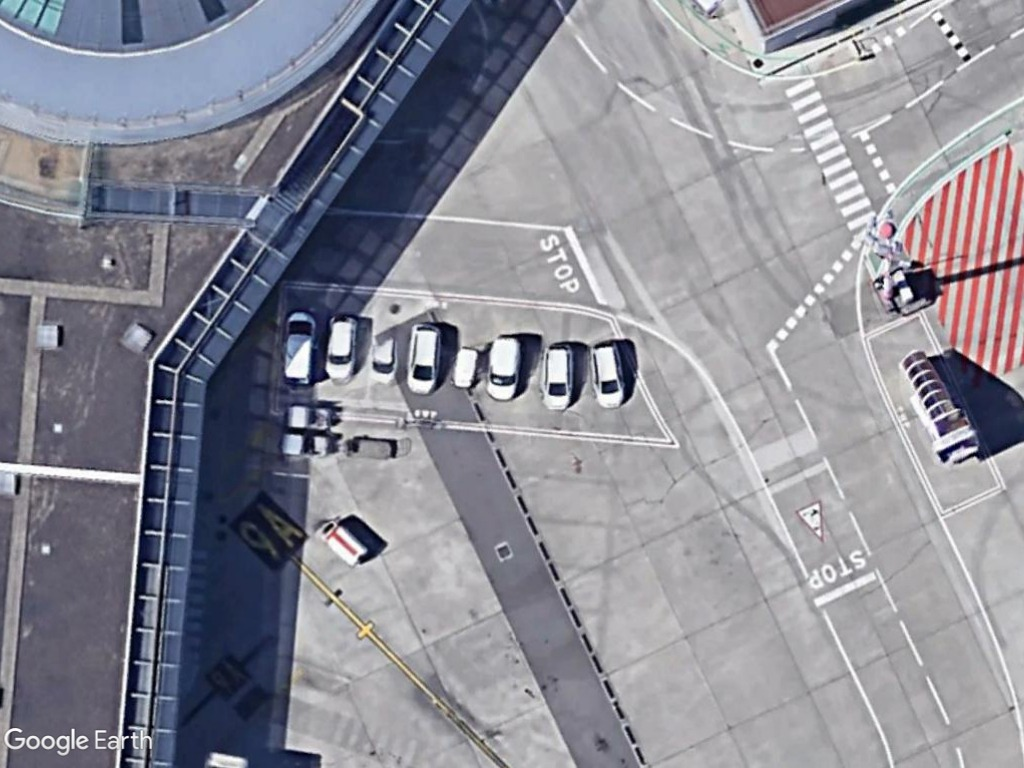car: (588, 337, 627, 411), (405, 320, 442, 396), (321, 313, 361, 382), (540, 342, 576, 414)
truck: (312, 517, 369, 570)
van: (280, 305, 319, 387), (484, 330, 524, 404)
